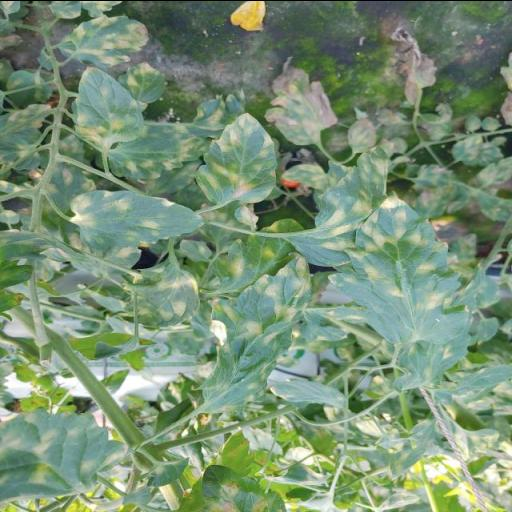Leaf Mold: (326, 195, 470, 345), (194, 254, 312, 414), (285, 144, 391, 266), (0, 408, 130, 502), (70, 189, 208, 249), (196, 112, 280, 202), (264, 55, 338, 145), (106, 124, 210, 178), (73, 65, 143, 143), (124, 256, 200, 326), (65, 12, 151, 66)
